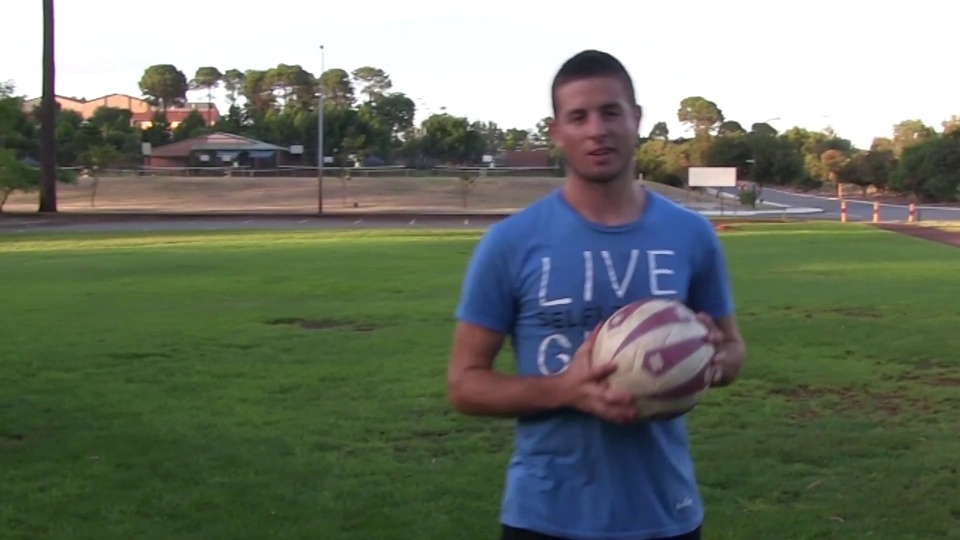person: (449, 44, 745, 540)
